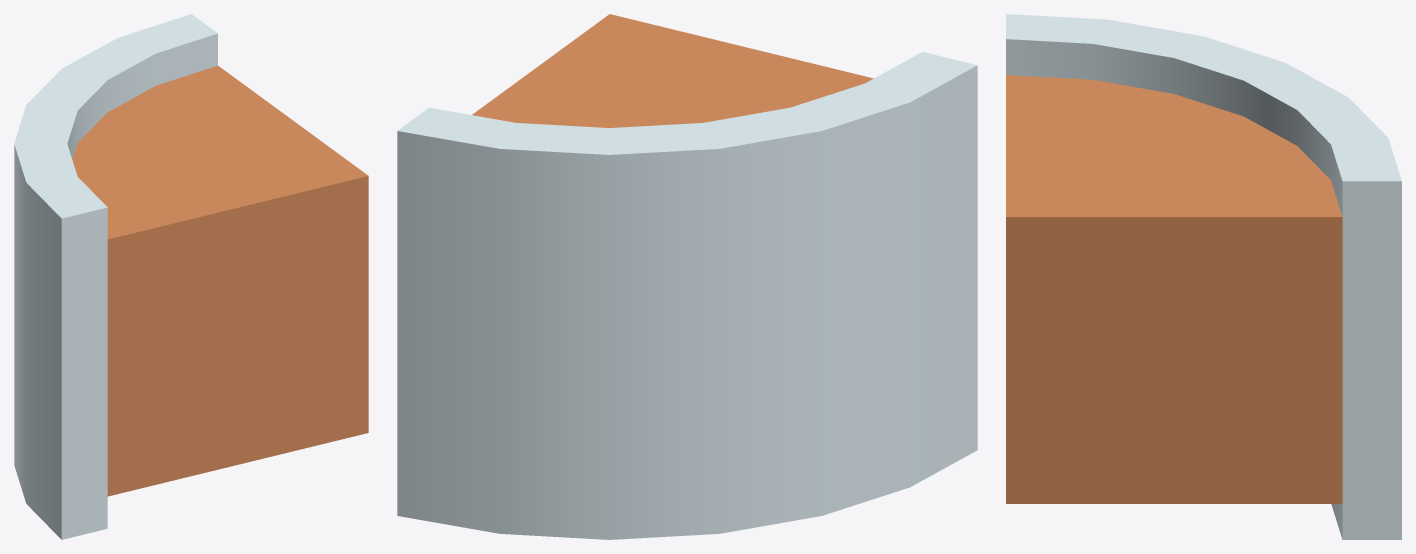
Rendered from blockSnowCurveHalf.obj.
3 views of the same model, side by side, from view 1: azimuth 30°, elevation 25°; view 2: azimuth 150°, elevation 25°; view 3: azimuth 270°, elevation 25° (orthographic). The views are drawn at different scales.
Visible parts, largest first — view 1: blockSnowCurveHalf.001; view 2: blockSnowCurveHalf.001; view 3: blockSnowCurveHalf.001.
Part boxes in pixels (x1=…): blockSnowCurveHalf.001: x1=14, y1=14, x2=368, y2=539; blockSnowCurveHalf.001: x1=397, y1=14, x2=977, y2=539; blockSnowCurveHalf.001: x1=1006, y1=14, x2=1401, y2=539.
Bounding box in the file's own units: 1 × 1 × 1.
